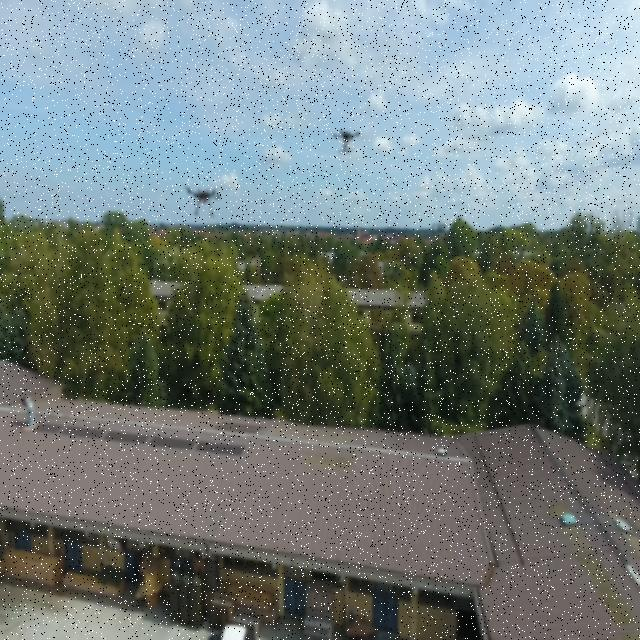UAV: (178, 180, 231, 218), (328, 122, 365, 156)
